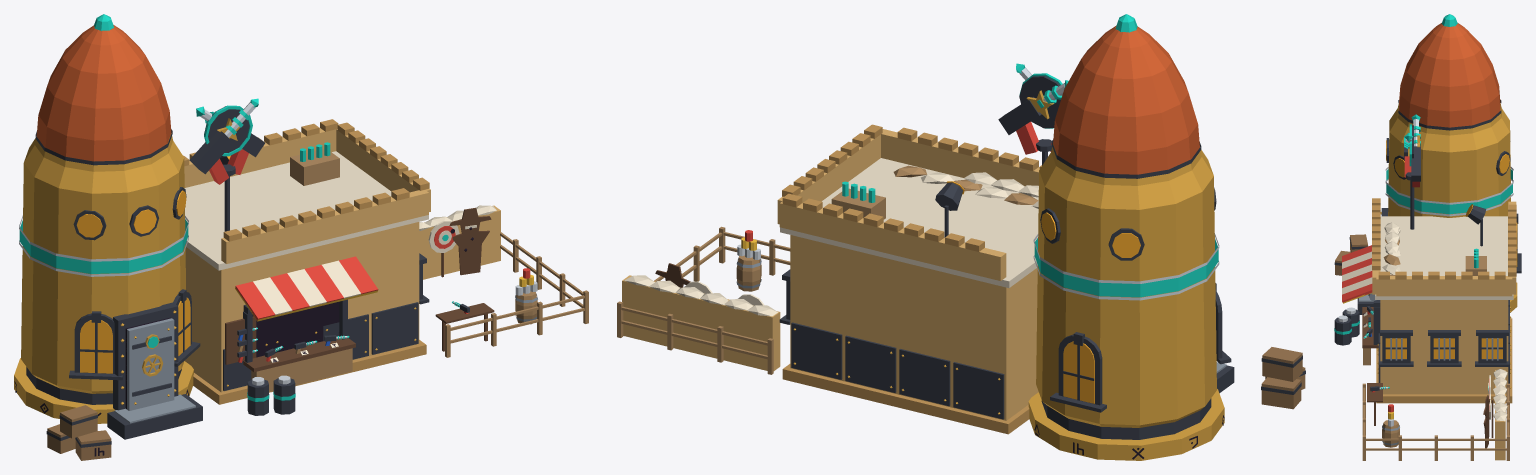
File: Bldg_Armory.obj
3 renders of one model, left to right at view 1: azimuth 30°, elevation 25°; view 2: azimuth 150°, elevation 25°; view 3: azimuth 270°, elevation 25°, orthographic. The views are drawn at different scales.
Visible parts, largest first — view 1: Bldg_Armory_Body, Bldg_Armory_Door, Bldg_Armory_Sign, Bldg_Armory_Targets; view 2: Bldg_Armory_Body, Bldg_Armory_Sign, Bldg_Armory_Targets; view 3: Bldg_Armory_Body, Bldg_Armory_Sign, Bldg_Armory_Targets.
Boxes of the visible parts, x1,y1,x2,y2 form: Bldg_Armory_Body: (14, 14, 588, 460); Bldg_Armory_Door: (127, 318, 174, 410); Bldg_Armory_Sign: (189, 98, 264, 184); Bldg_Armory_Targets: (428, 207, 537, 324); Bldg_Armory_Body: (617, 14, 1305, 460); Bldg_Armory_Sign: (998, 63, 1068, 154); Bldg_Armory_Targets: (655, 230, 764, 305); Bldg_Armory_Body: (1334, 14, 1521, 460); Bldg_Armory_Sign: (1404, 114, 1420, 187); Bldg_Armory_Targets: (1382, 375, 1493, 448).
Size of the model in its own units: 17.77 by 11.85 by 7.03.
